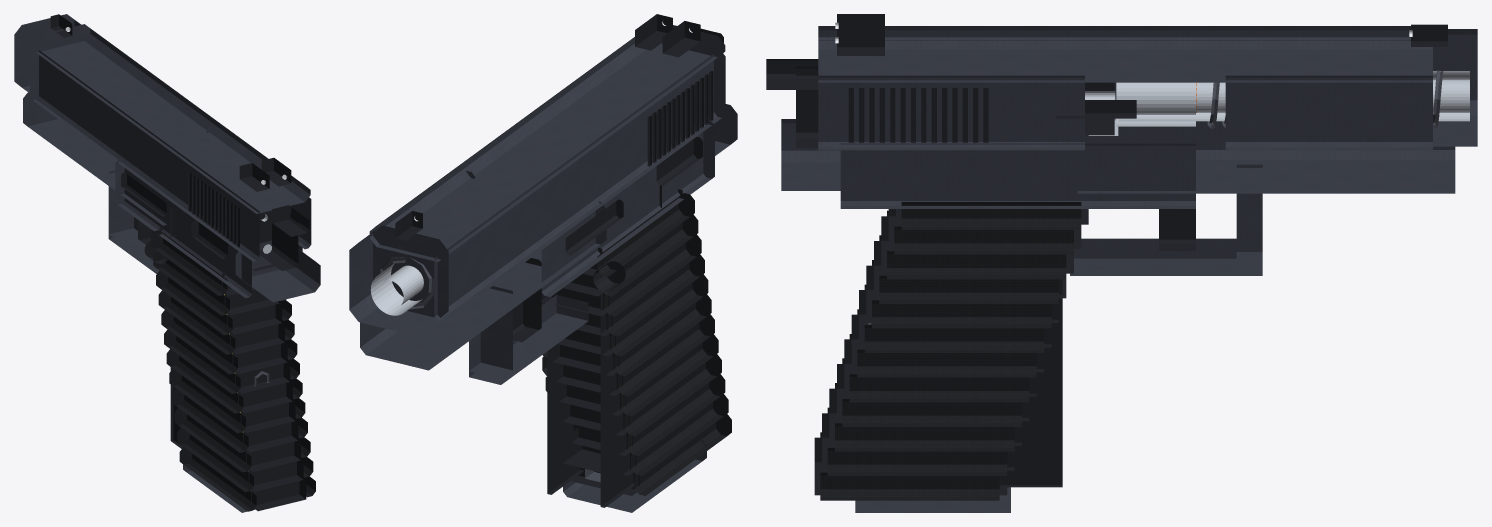
The model's file is fort12-wip.glb.
The picture shows the model from 3 angles, left to right: view 1: azimuth 30°, elevation 25°; view 2: azimuth 150°, elevation 25°; view 3: azimuth 270°, elevation 25°; orthographic projection. The views are drawn at different scales.
Visible parts, largest first — view 1: slide_top_deck, slide_left_wall, ext_frame_left_wall, ext_frame_dust_cover, ext_frame_beavertail, int_hammer, ext_grip_panel_left_00, slide_front_bushing, ext_grip_panel_left_11, ext_grip_panel_left_03, ext_grip_panel_left_06, ext_grip_panel_left_09 (+29 smaller); view 2: slide_top_deck, slide_left_wall, ext_frame_dust_cover, ext_frame_left_wall, slide_front_bushing, int_mag_wall_left, ext_trigger_guard_bottom, ext_mag_wall_right, ext_trigger_guard_front, ext_grip_panel_left_00, ext_grip_panel_left_09, ext_grip_panel_left_03 (+29 smaller); view 3: slide_top_deck, ext_frame_right_wall, slide_right_wall_rear, slide_right_wall_front, ext_frame_dust_cover, ext_mag_wall_right, ext_trigger_guard_bottom, ext_grip_panel_right_07, ext_grip_panel_right_02, ext_grip_panel_right_05, ext_grip_panel_right_10, ext_grip_panel_right_01 (+20 smaller).
Part boxes in pixels (<box>): slide_top_deck: <box>30,24,310,213</box>; slide_left_wall: <box>30,48,259,261</box>; ext_frame_left_wall: <box>115,159,251,298</box>; ext_frame_dust_cover: <box>23,92,166,225</box>; ext_frame_beavertail: <box>235,240,320,302</box>; int_hammer: <box>259,210,298,270</box>; ext_grip_panel_left_00: <box>150,230,227,295</box>; slide_front_bushing: <box>14,14,92,92</box>; ext_grip_panel_left_11: <box>179,447,256,511</box>; ext_grip_panel_left_03: <box>158,290,235,354</box>; ext_grip_panel_left_06: <box>166,349,243,413</box>; ext_grip_panel_left_09: <box>174,408,251,472</box>; slide_top_deck: <box>369,25,725,261</box>; slide_left_wall: <box>434,51,725,322</box>; ext_frame_dust_cover: <box>360,201,606,370</box>; ext_frame_left_wall: <box>541,121,714,297</box>; slide_front_bushing: <box>349,225,448,335</box>; int_mag_wall_left: <box>600,185,661,507</box>; ext_trigger_guard_bottom: <box>469,295,588,384</box>; ext_mag_wall_right: <box>547,296,583,494</box>; ext_trigger_guard_front: <box>469,286,512,378</box>; ext_grip_panel_left_00: <box>597,193,694,276</box>; ext_grip_panel_left_09: <box>627,374,725,455</box>; ext_grip_panel_left_03: <box>607,254,704,336</box>; slide_top_deck: <box>818,26,1432,82</box>; ext_frame_right_wall: <box>840,143,1195,208</box>; slide_right_wall_rear: <box>818,75,1084,150</box>; slide_right_wall_front: <box>1225,75,1432,150</box>; ext_frame_dust_cover: <box>1077,121,1455,193</box>; ext_mag_wall_right: <box>999,279,1062,487</box>; ext_trigger_guard_bottom: <box>1070,238,1262,275</box>; ext_grip_panel_right_07: <box>849,374,1029,402</box>; ext_grip_panel_right_02: <box>887,251,1066,279</box>; ext_grip_panel_right_05: <box>864,325,1044,352</box>; ext_grip_panel_right_10: <box>827,448,1007,475</box>; ext_grip_panel_right_01: <box>894,226,1073,254</box>.
Bounding box in the file's own units: 0.0327 × 0.14 × 0.192.
Materials: 8 (8 with a texture image).
